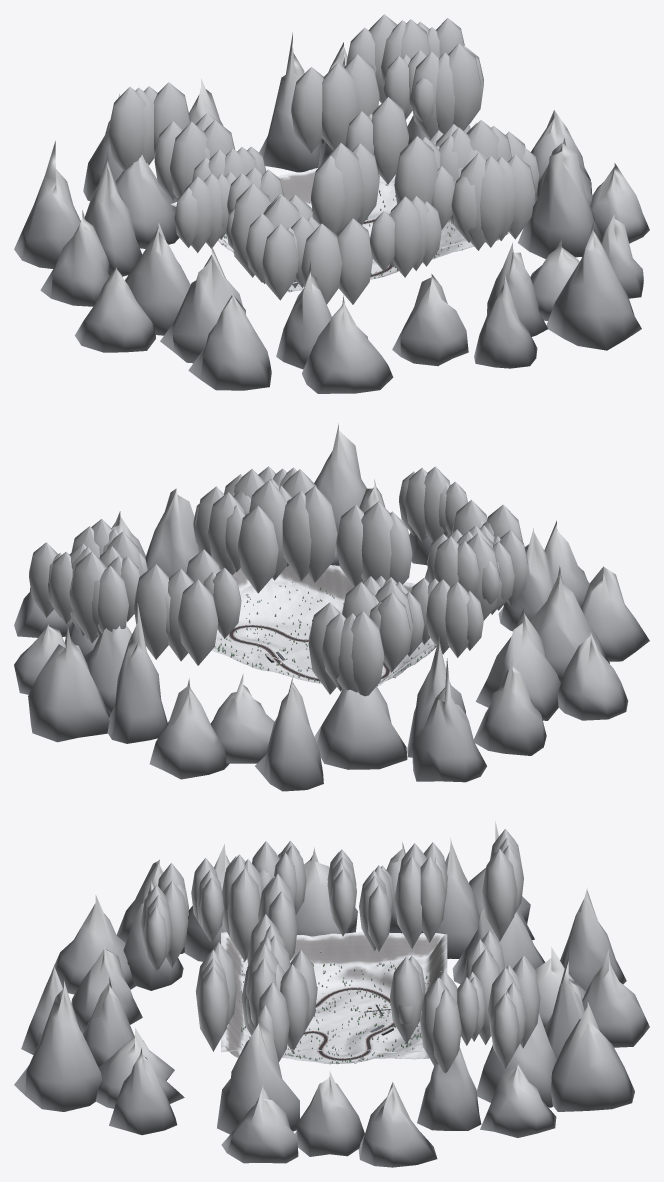
File: neve.glb
The picture shows the model from 3 angles, top to bottom: view 1: azimuth 30°, elevation 25°; view 2: azimuth 150°, elevation 25°; view 3: azimuth 270°, elevation 25°; orthographic projection.
Visible parts, largest first — view 1: Backdrop, CloudMesh, Terrain-col; view 2: Backdrop, CloudMesh, Terrain-col; view 3: Backdrop, CloudMesh, Terrain-col, Road-col.
Boxes of the visible parts, left/top/right/bottom form: Backdrop: left=14, top=32, right=649, bottom=393; CloudMesh: left=108, top=14, right=539, bottom=304; Terrain-col: left=171, top=168, right=508, bottom=292; Backdrop: left=14, top=423, right=649, bottom=791; CloudMesh: left=29, top=466, right=528, bottom=696; Terrain-col: left=212, top=565, right=436, bottom=686; Backdrop: left=14, top=821, right=649, bottom=1167; CloudMesh: left=141, top=829, right=540, bottom=1072; Terrain-col: left=221, top=932, right=447, bottom=1063; Road-col: left=304, top=988, right=394, bottom=1060.
Size of what is drawn, in the model's own units: 2287 by 584 by 2258.
Materials: 8 (5 with a texture image).
